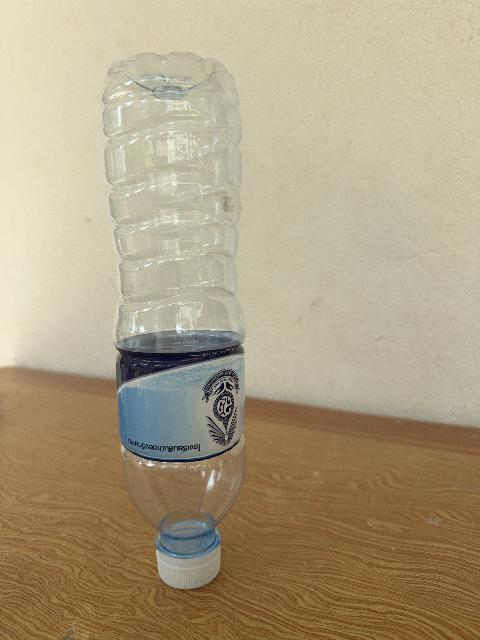bottle: (103, 53, 245, 588)
